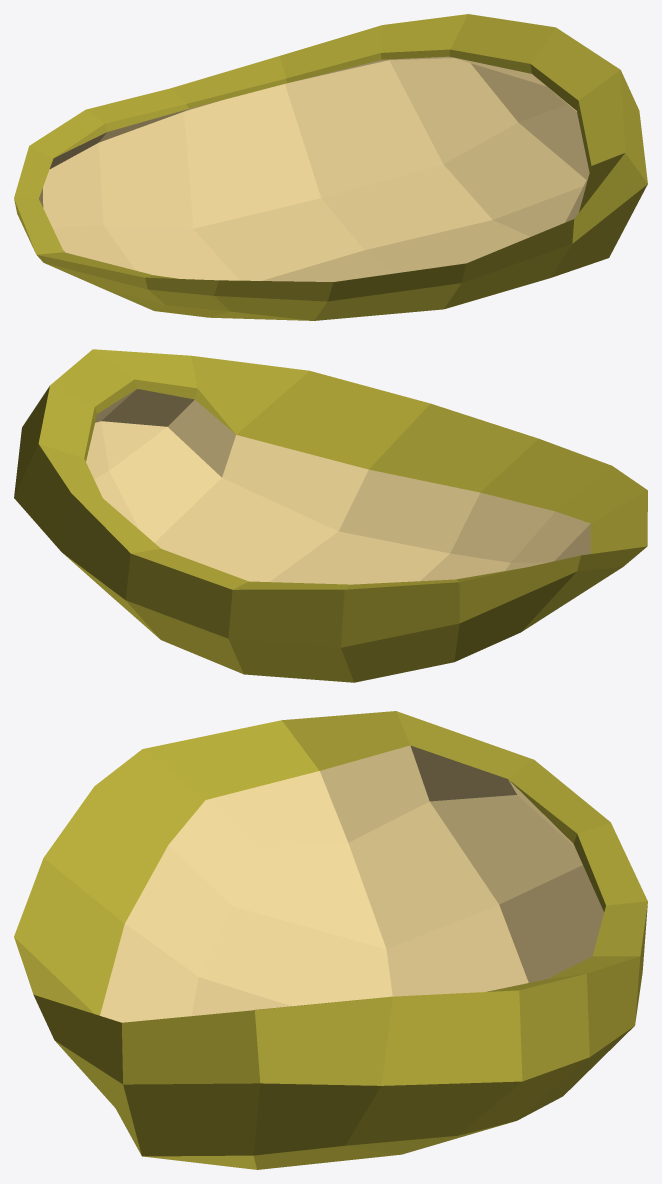
The model's file is Coral_08.fbx.
3 views of the same model, one above another, from view 1: azimuth 30°, elevation 25°; view 2: azimuth 150°, elevation 25°; view 3: azimuth 270°, elevation 25° (orthographic). The views are drawn at different scales.
Parts seen in each view (by area): view 1: Coral_08; view 2: Coral_08; view 3: Coral_08.
Part boxes in pixels (box(x1,y1,x2,y2)): Coral_08: box(14, 14, 647, 320); Coral_08: box(14, 349, 647, 682); Coral_08: box(14, 711, 647, 1169).
Size of the model in its own units: 41.54 by 12.9 by 30.02.
